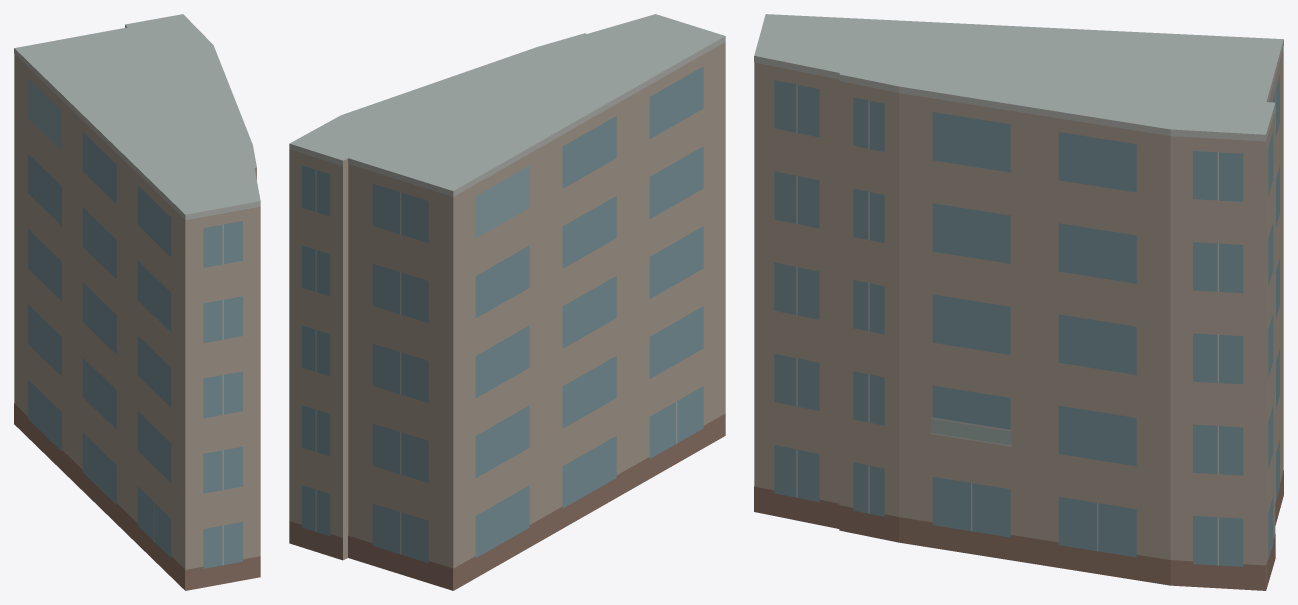
Rendered from survey-upis-32647686.glb.
3 renders of one model, left to right at view 1: azimuth 30°, elevation 25°; view 2: azimuth 150°, elevation 25°; view 3: azimuth 270°, elevation 25°, orthographic. The views are drawn at different scales.
Parts seen in each view (by area): view 1: survey-upis-32647686.tmp; view 2: survey-upis-32647686.tmp; view 3: survey-upis-32647686.tmp.
Boxes of the visible parts, bbox=[...] form: survey-upis-32647686.tmp: bbox=[14, 14, 260, 590]; survey-upis-32647686.tmp: bbox=[289, 14, 725, 590]; survey-upis-32647686.tmp: bbox=[754, 14, 1283, 590].
Bounding box in the file's own units: 9.55 × 16.8 × 17.69.
